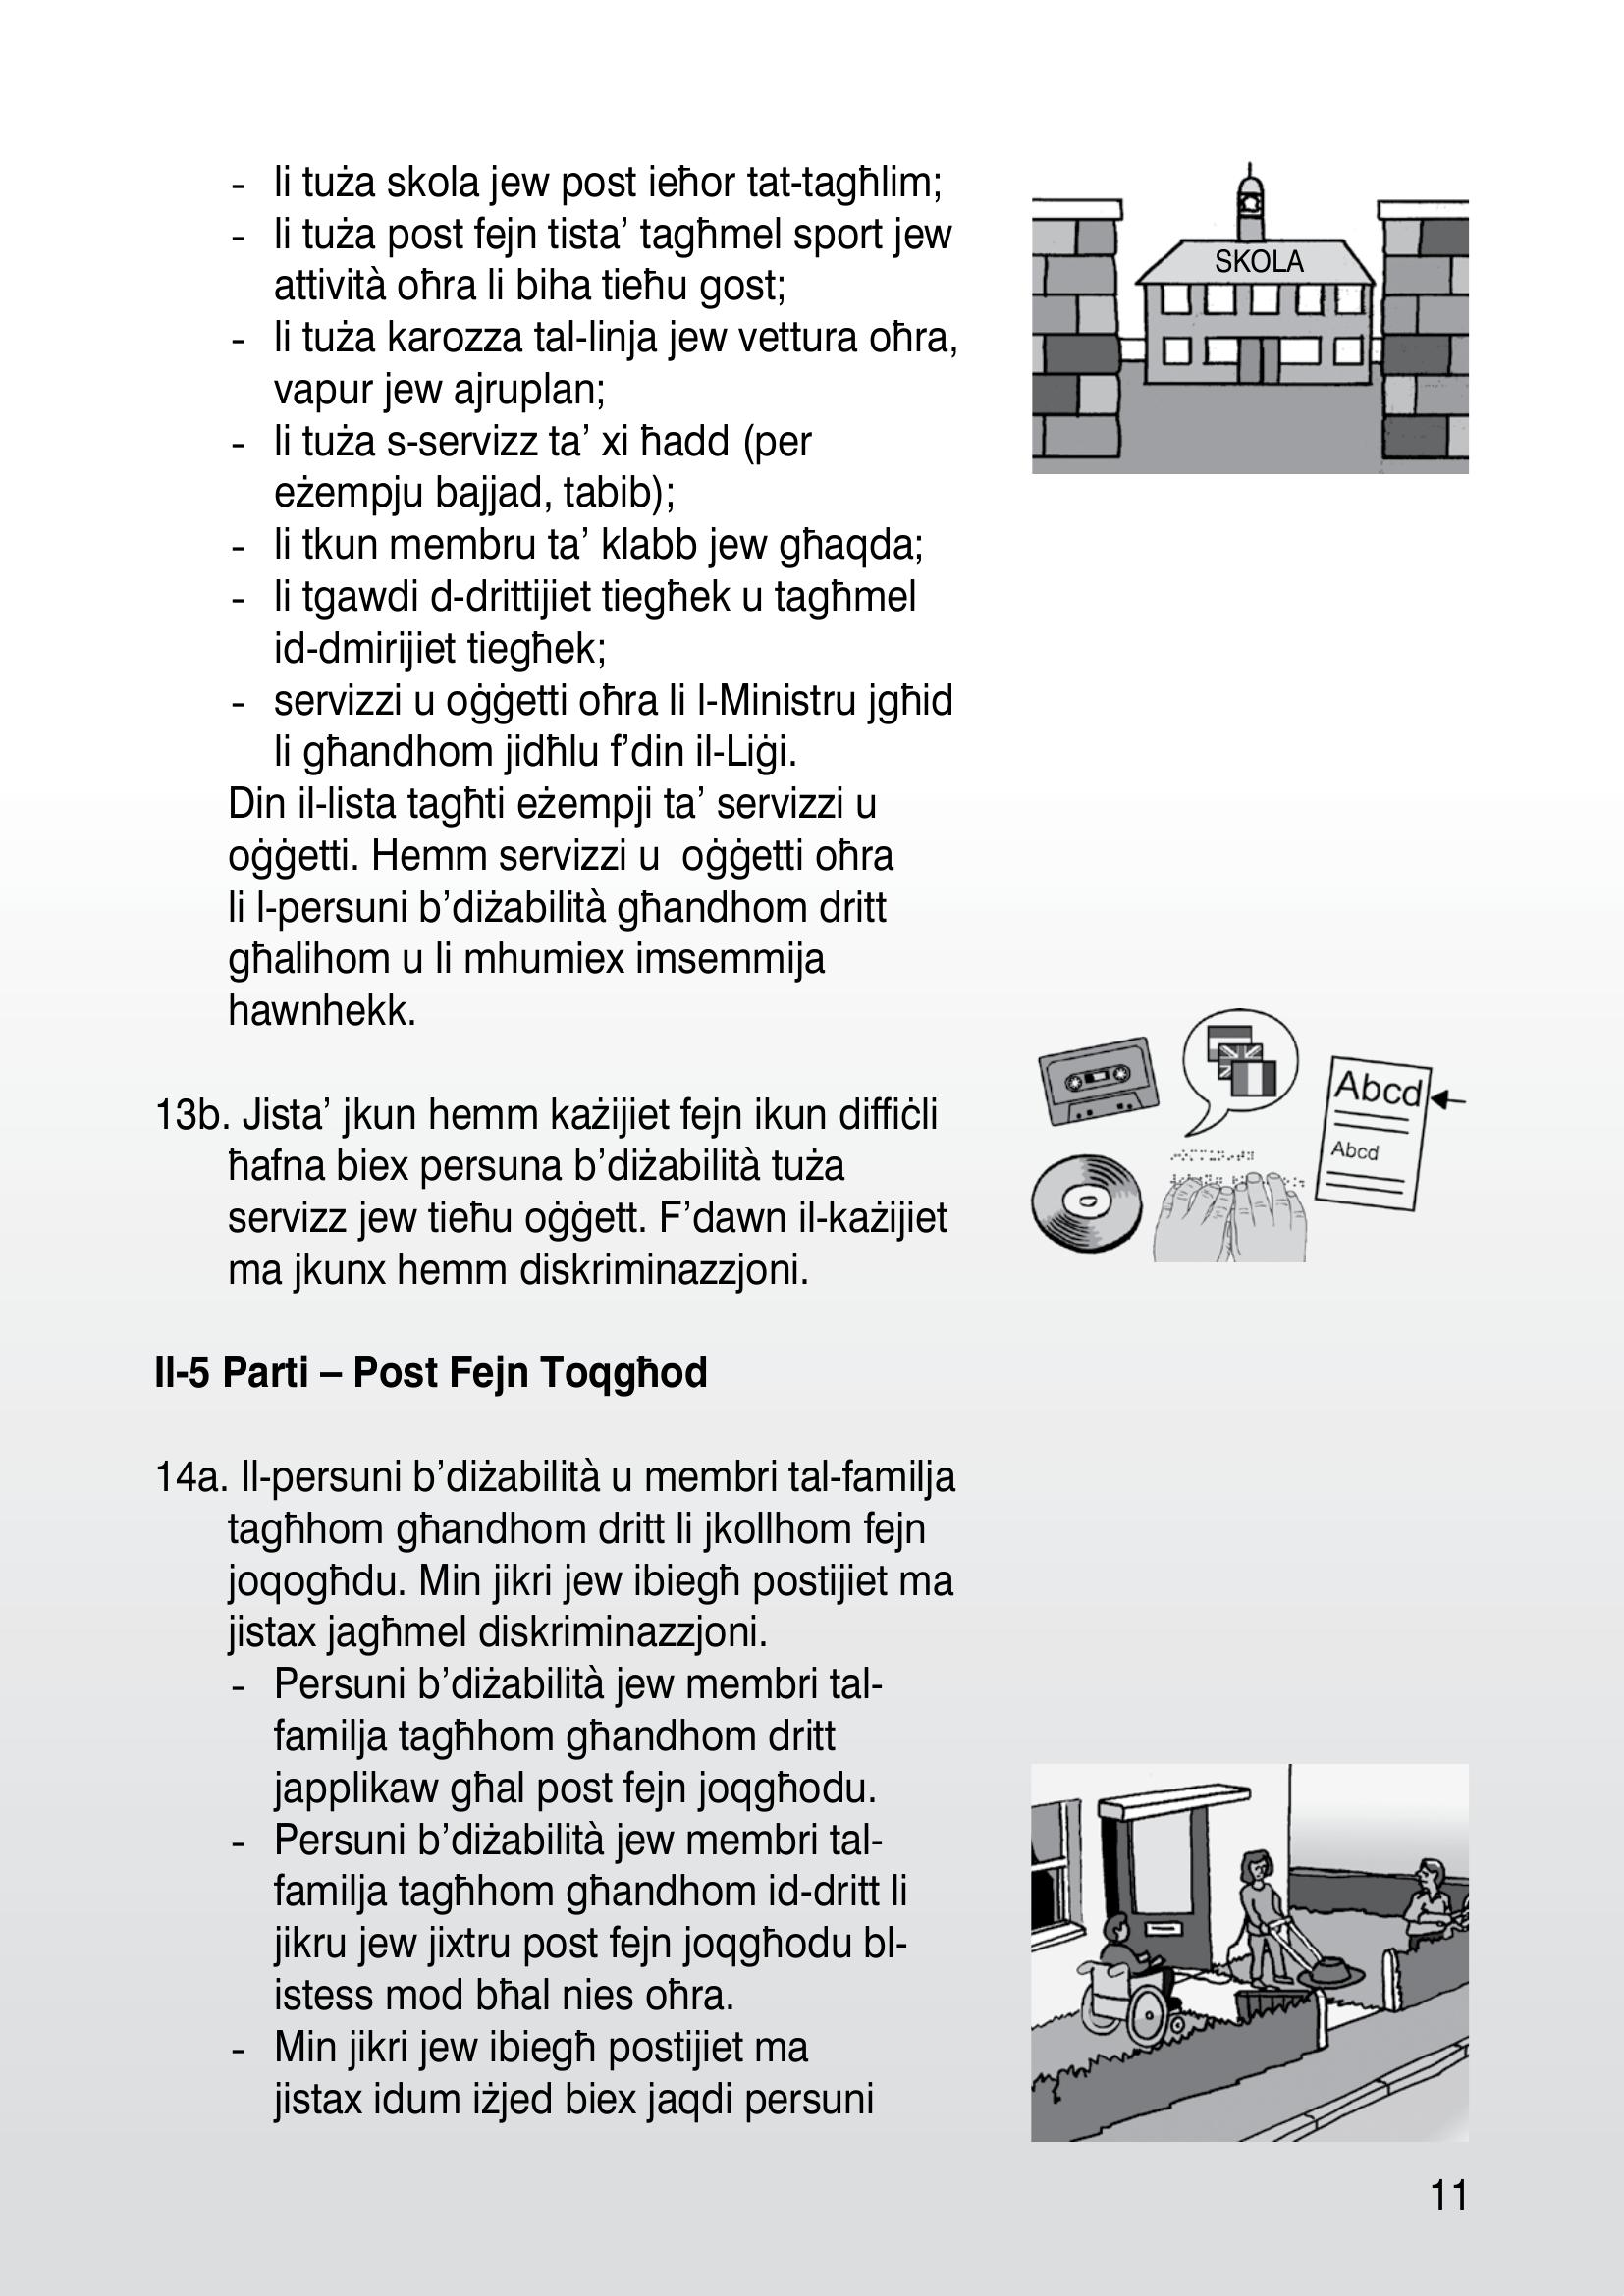text: (135, 128, 975, 2150)
